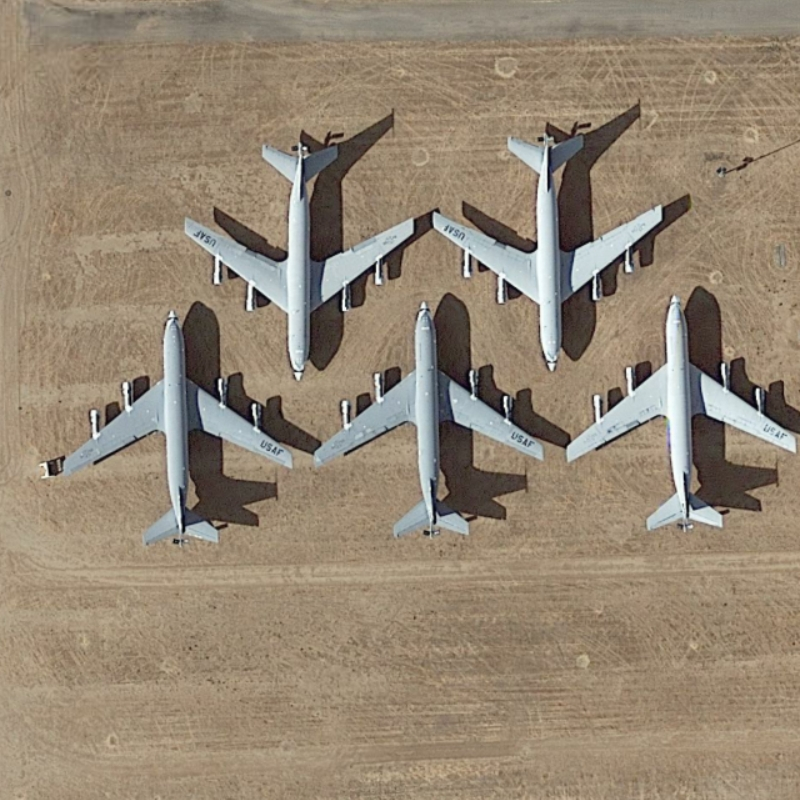A14: (427, 118, 676, 372), (175, 130, 421, 384), (566, 288, 800, 541), (313, 302, 548, 553), (63, 305, 295, 555)
